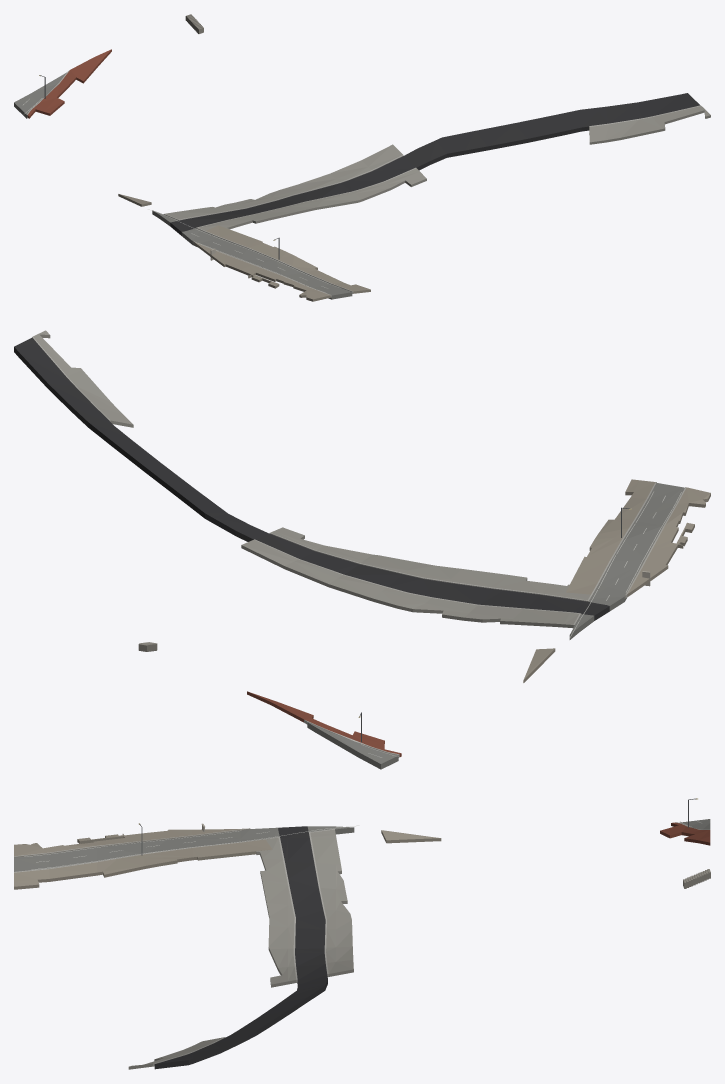
The model's file is 18-218859-118950.9aedd8cc.glb.
The picture shows the model from 3 angles, top to bottom: view 1: azimuth 30°, elevation 25°; view 2: azimuth 150°, elevation 25°; view 3: azimuth 270°, elevation 25°; orthographic projection. The views are drawn at different scales.
Bounding box in the file's own units: 148 × 19.21 × 146.
